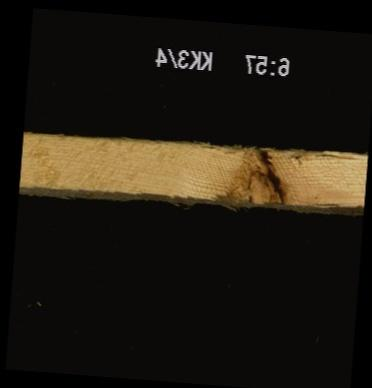edge_knot: (220, 148, 287, 205)
